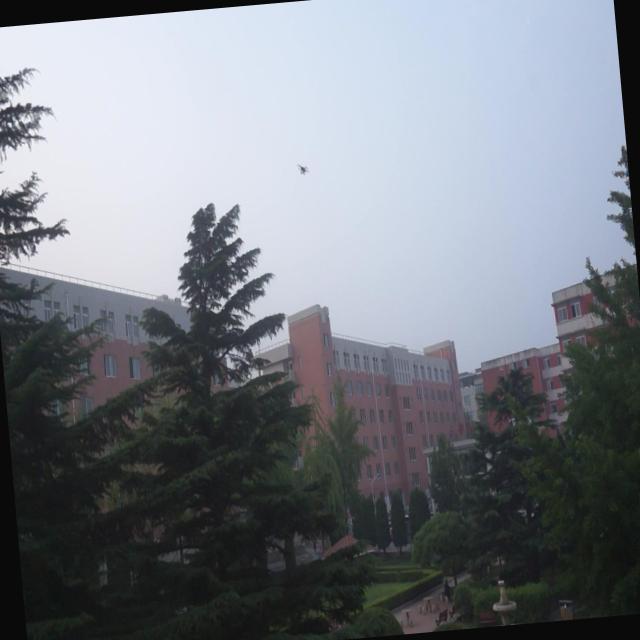drone: (294, 160, 310, 178)
